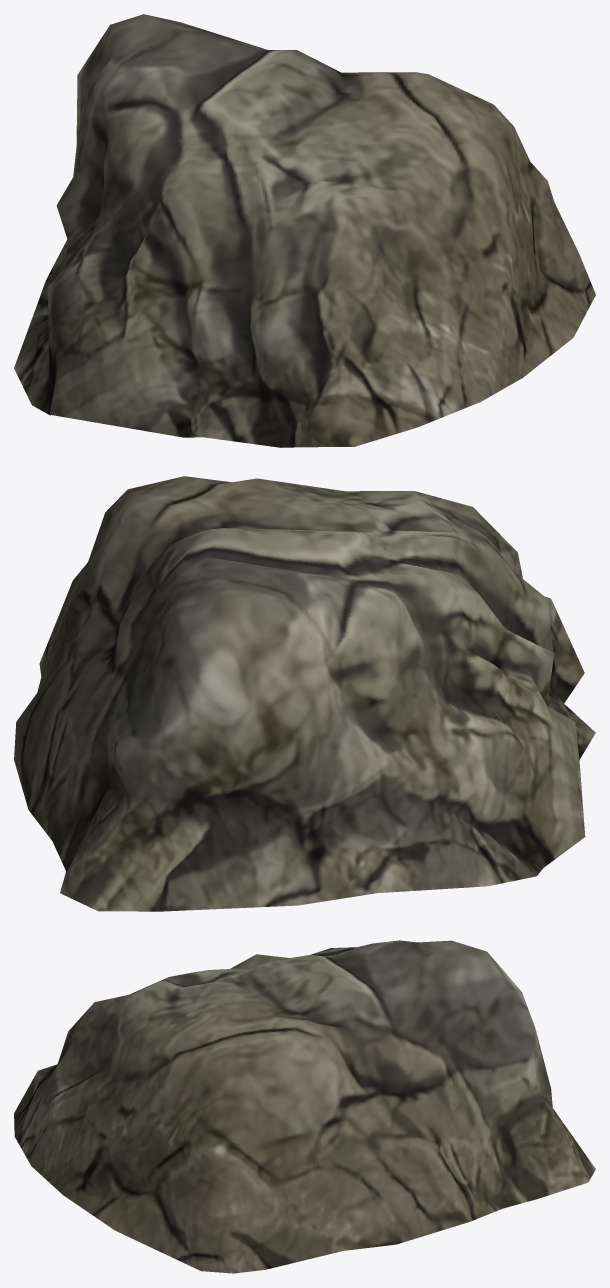
The model's file is MEP_Cliff_11.fbx.
3 renders of one model, top to bottom at view 1: azimuth 30°, elevation 25°; view 2: azimuth 150°, elevation 25°; view 3: azimuth 270°, elevation 25°, orthographic. The views are drawn at different scales.
Visible parts, largest first — view 1: MEP_Desert_Cliff_11; view 2: MEP_Desert_Cliff_11; view 3: MEP_Desert_Cliff_11.
Part boxes in pixels (bbox=[...]): MEP_Desert_Cliff_11: bbox=[14, 14, 595, 447]; MEP_Desert_Cliff_11: bbox=[14, 476, 595, 911]; MEP_Desert_Cliff_11: bbox=[14, 940, 595, 1273].
Size of what is drawn, in the model's own units: 260 by 133 by 296.
1 material, 1 textured.
